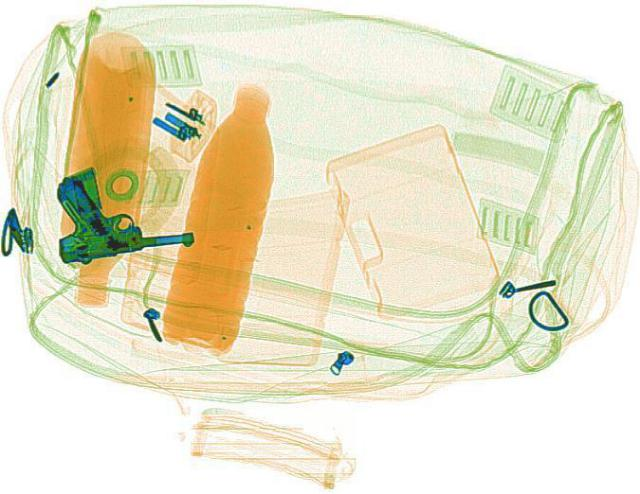Gun: (34, 155, 198, 265)
